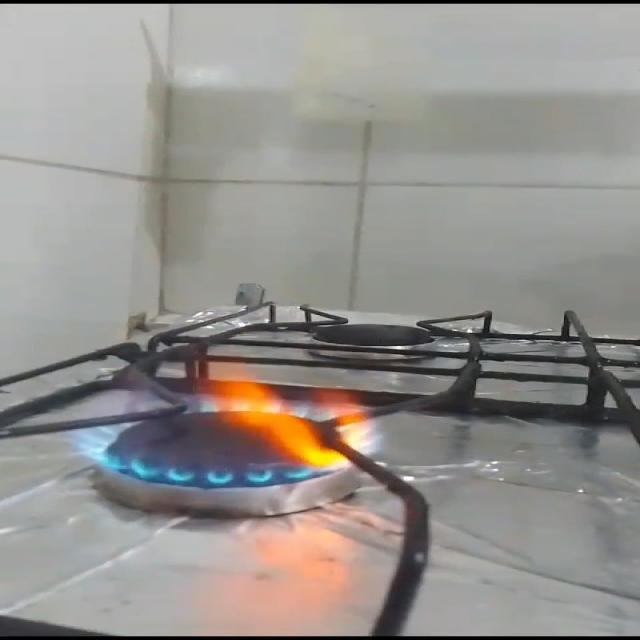fogo-ypXI: (56, 349, 385, 491)
